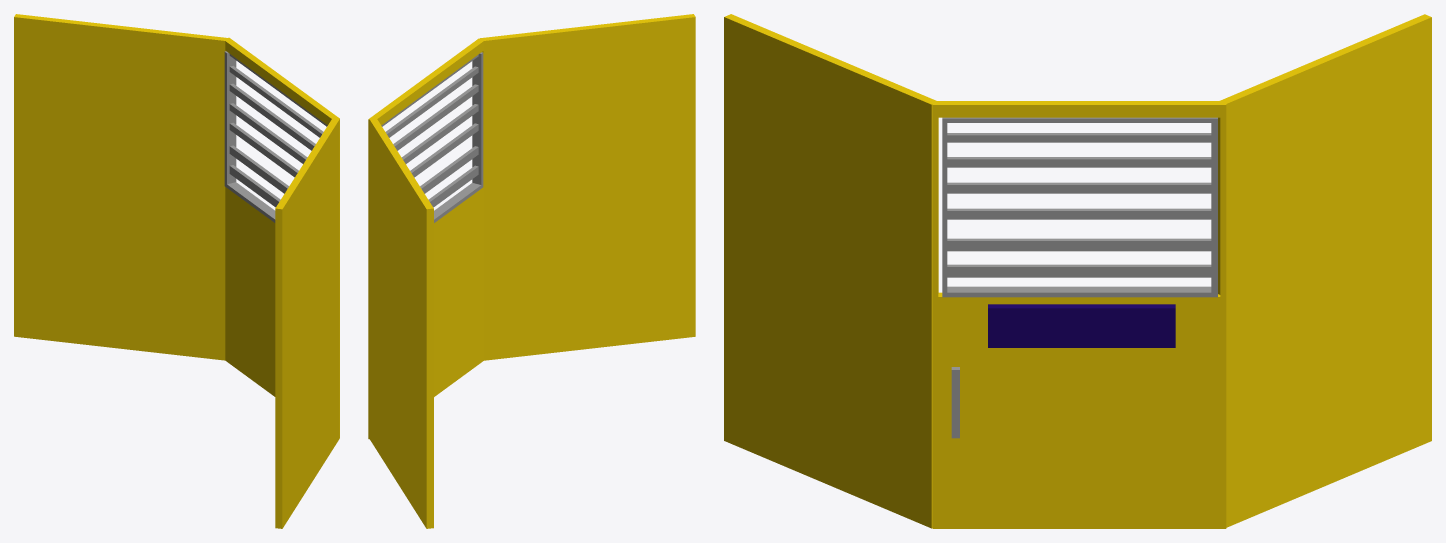
Rendered from escudo.fbx.
The picture shows the model from 3 angles, left to right: view 1: azimuth 30°, elevation 25°; view 2: azimuth 150°, elevation 25°; view 3: azimuth 270°, elevation 25°; orthographic projection. The views are drawn at different scales.
Parts seen in each view (by area): view 1: pCube3, pCube1, pCube2, pCube4; view 2: pCube1, pCube3, pCube2, pCube4; view 3: pCube1, pCube3, pCube2, pCube4.
Part boxes in pixels (box(x1,y1,x2,y2)): pCube3: box(14, 14, 226, 360); pCube1: box(275, 119, 339, 528); pCube2: box(223, 37, 339, 437); pCube4: box(224, 51, 327, 222); pCube1: box(480, 14, 695, 360); pCube3: box(370, 119, 433, 528); pCube2: box(368, 38, 484, 439); pCube4: box(381, 52, 483, 222); pCube1: box(724, 14, 938, 528); pCube3: box(1218, 14, 1431, 527); pCube2: box(932, 101, 1226, 528); pCube4: box(942, 117, 1217, 297).
Size of the model in its own units: 17.29 by 36.01 by 54.49.
